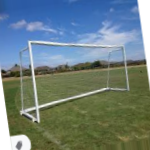goals: (18, 38, 132, 124)
